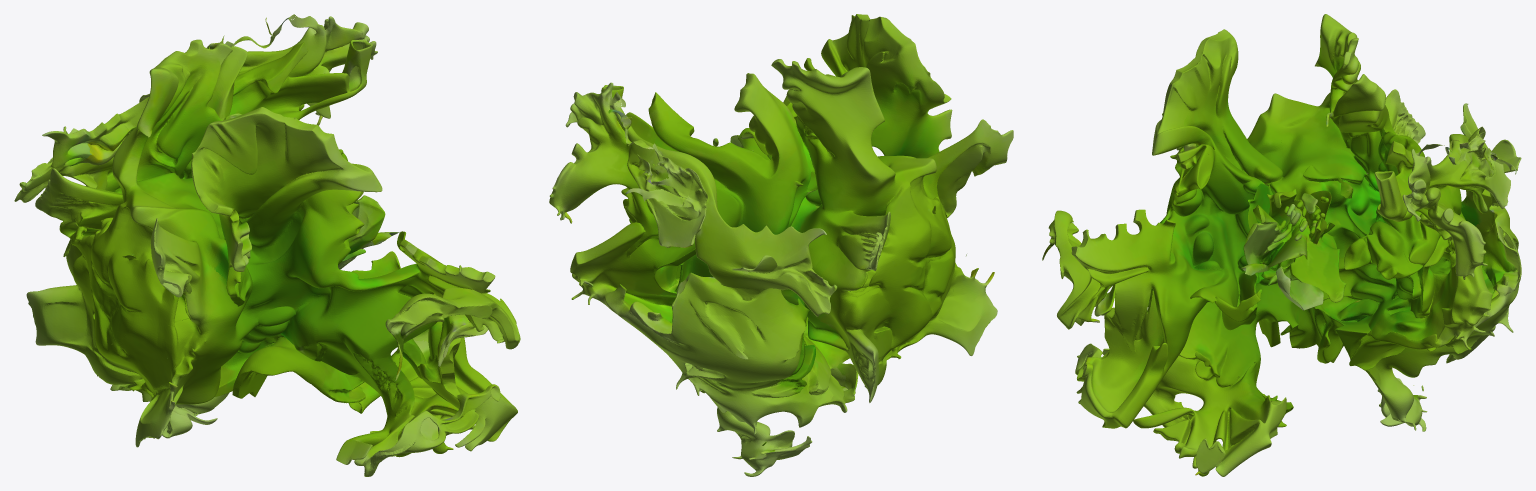
The model's file is Ulva Lactuca.glb.
The picture shows the model from 3 angles, left to right: view 1: azimuth 30°, elevation 25°; view 2: azimuth 150°, elevation 25°; view 3: azimuth 270°, elevation 25°; orthographic projection. The views are drawn at different scales.
Visible parts, largest first — view 1: tripo_node_908196f0-3e46-4e08-8f81-904b7d585fca; view 2: tripo_node_908196f0-3e46-4e08-8f81-904b7d585fca; view 3: tripo_node_908196f0-3e46-4e08-8f81-904b7d585fca.
Boxes of the visible parts, x1,y1,x2,y2 form: tripo_node_908196f0-3e46-4e08-8f81-904b7d585fca: (14,14,520,476); tripo_node_908196f0-3e46-4e08-8f81-904b7d585fca: (549,14,1013,476); tripo_node_908196f0-3e46-4e08-8f81-904b7d585fca: (1042,14,1521,476).
Size of the model in its own units: 0.8027 by 0.8896 by 1.
1 material, 1 textured.
